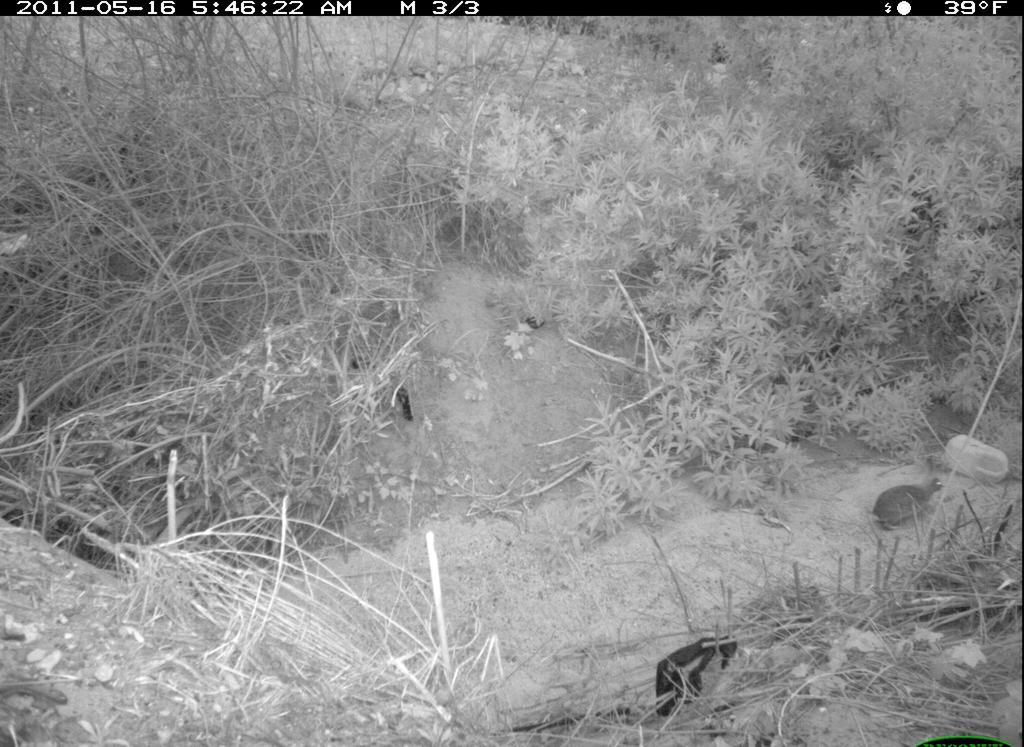rabbit: (868, 449, 949, 538)
